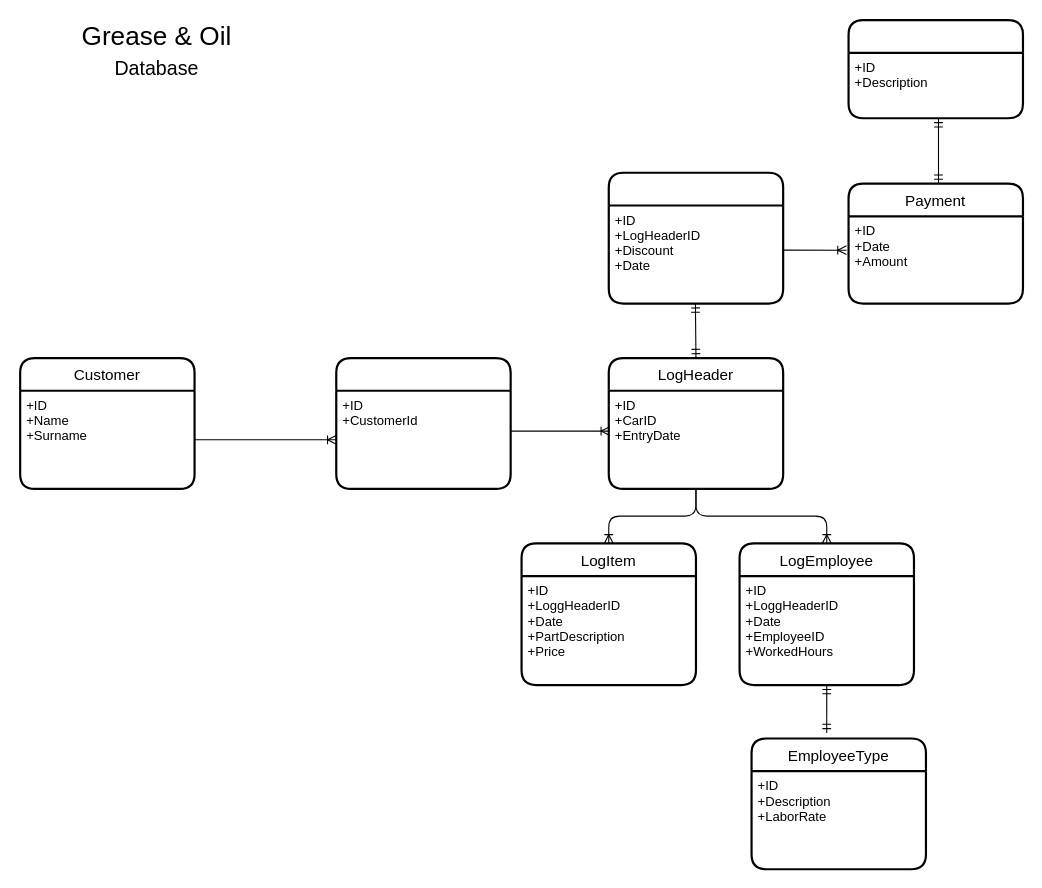
Some shapes in this 1042 by 888 pixel diagram are drawn without their labels. The shapes that lost their labels are listed below. From the top down, each one's box as (x1, y1, x2, y2) in pixels, then its label:
(847, 19, 1024, 119): PaymentType
(607, 171, 784, 304): Invoice
(335, 356, 511, 489): Car
